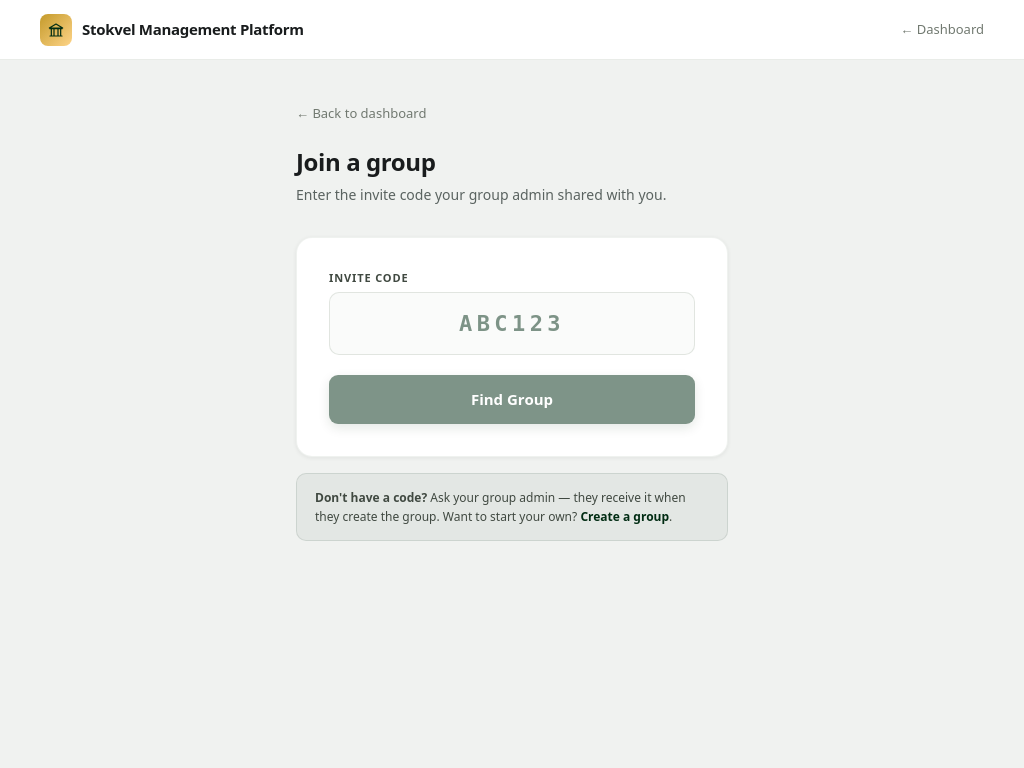
Test: JoinGroup › shows group not found error on failed lookup
In the field with placeholder "ABC123": (512, 324) x1=329 y1=292 x2=695 y2=355, type "ZZZZ"
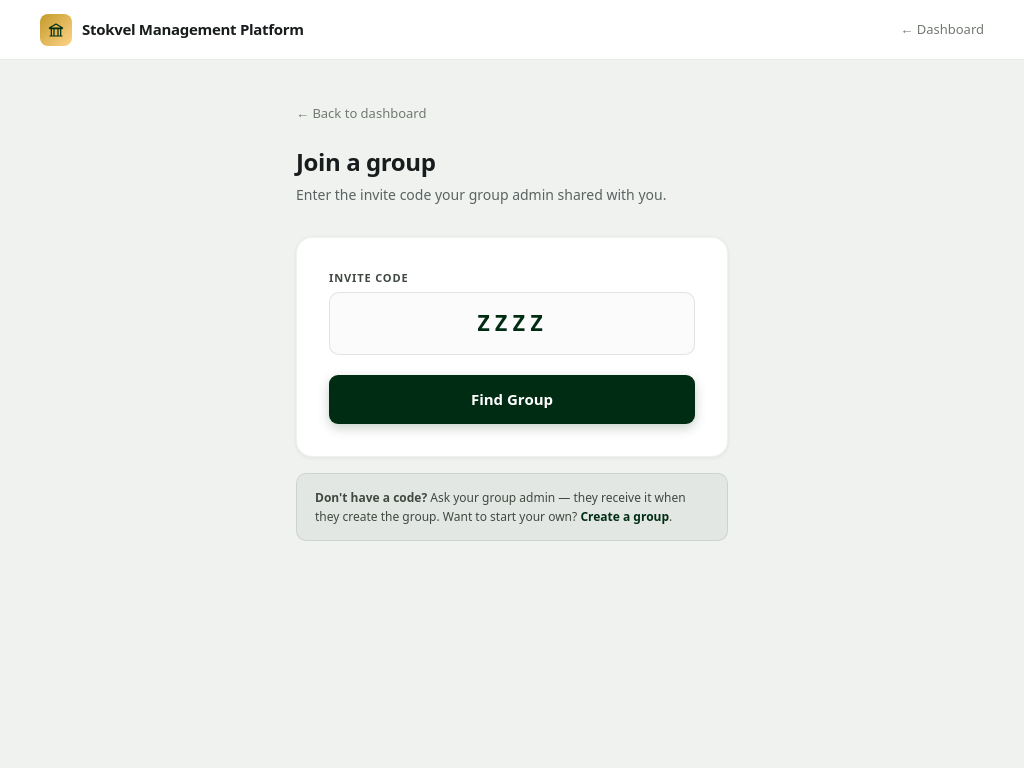
Click the button "Find Group": (512, 399) x1=329 y1=375 x2=695 y2=424
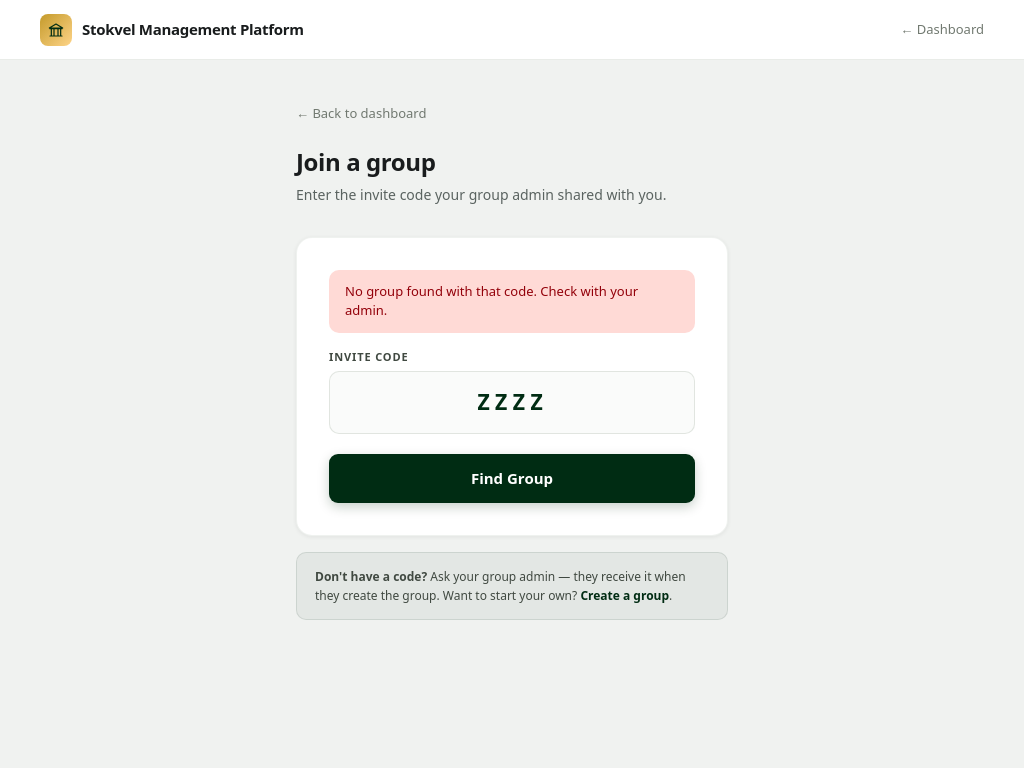
Expected: the text "No group found with that code. Check with your admin." is shown, x1=329 y1=270 x2=695 y2=332
